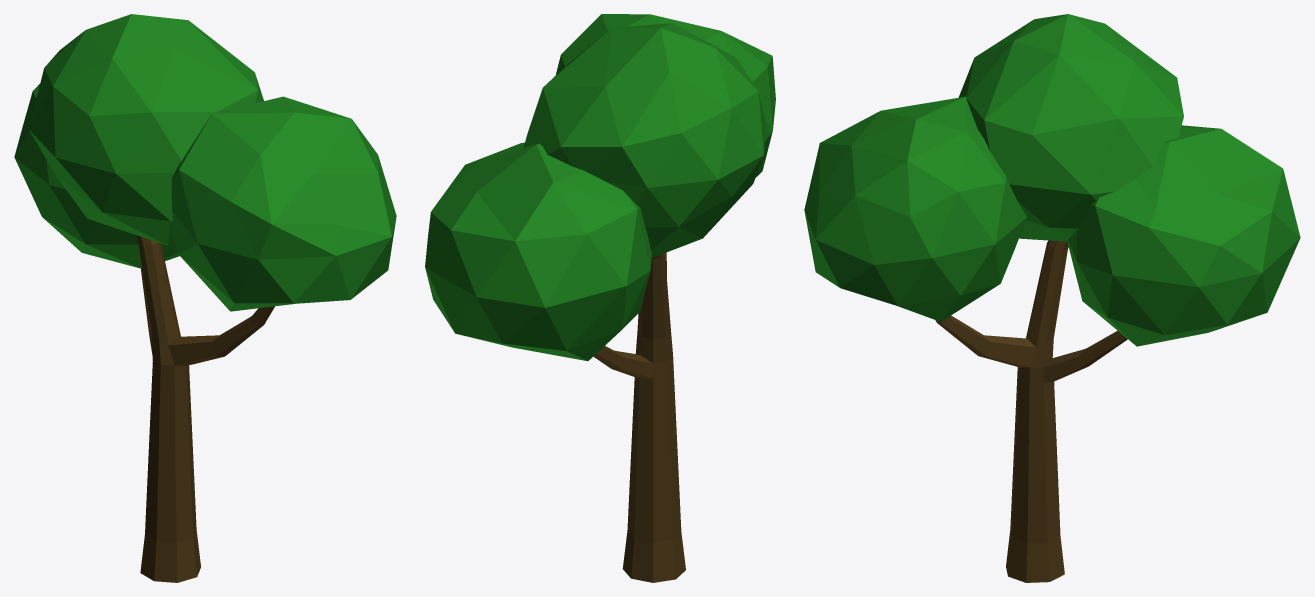
File: tree.glb
The picture shows the model from 3 angles, left to right: view 1: azimuth 30°, elevation 25°; view 2: azimuth 150°, elevation 25°; view 3: azimuth 270°, elevation 25°; orthographic projection. The views are drawn at different scales.
Visible parts, largest first — view 1: Cylinder.001; view 2: Cylinder.001; view 3: Cylinder.001.
Part boxes in pixels (x1,y1,x2,y2): Cylinder.001: [14, 14, 396, 582]; Cylinder.001: [425, 14, 775, 582]; Cylinder.001: [804, 14, 1300, 582].
Bounding box in the file's own units: 2.63 × 5.2 × 4.29.
